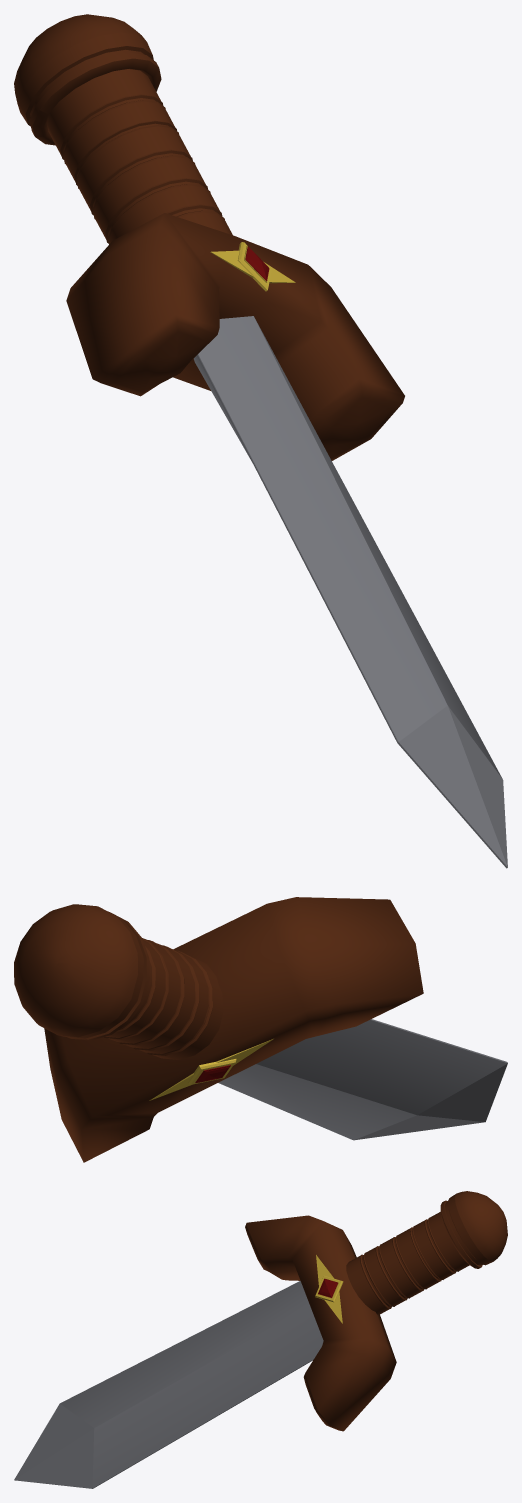
The model's file is sword.obj.
3 renders of one model, top to bottom at view 1: azimuth 30°, elevation 25°; view 2: azimuth 150°, elevation 25°; view 3: azimuth 270°, elevation 25°, orthographic. The views are drawn at different scales.
Parts seen in each view (by area): view 1: Blade_02_-_Blade_0, HandleGuard_01_-_Handle_0, Handle_01_-_Handle_0, HandleGuardDetail_03_-_Gold_0; view 2: HandleGuard_01_-_Handle_0, Handle_01_-_Handle_0, Blade_02_-_Blade_0, HandleGuardDetail_03_-_Gold_0, HandleGuardGem_03_-_Ruby_0; view 3: Blade_02_-_Blade_0, HandleGuard_01_-_Handle_0, Handle_01_-_Handle_0, HandleGuardDetail_03_-_Gold_0.
Boxes of the visible parts, x1,y1,x2,y2 form: Blade_02_-_Blade_0: (193,316,507,868); HandleGuard_01_-_Handle_0: (66,213,404,460); Handle_01_-_Handle_0: (14,14,232,244); HandleGuardDetail_03_-_Gold_0: (210,242,295,291); HandleGuard_01_-_Handle_0: (44,897,423,1162); Handle_01_-_Handle_0: (14,904,223,1059); Blade_02_-_Blade_0: (218,1019,507,1140); HandleGuardDetail_03_-_Gold_0: (149,1039,273,1100); HandleGuardGem_03_-_Ruby_0: (195,1065,230,1082); Blade_02_-_Blade_0: (14,1281,323,1488); HandleGuard_01_-_Handle_0: (245,1215,396,1431); Handle_01_-_Handle_0: (346,1191,507,1315); HandleGuardDetail_03_-_Gold_0: (315,1255,343,1323).
Size of the model in its own units: 19.79 by 28.47 by 44.34.
